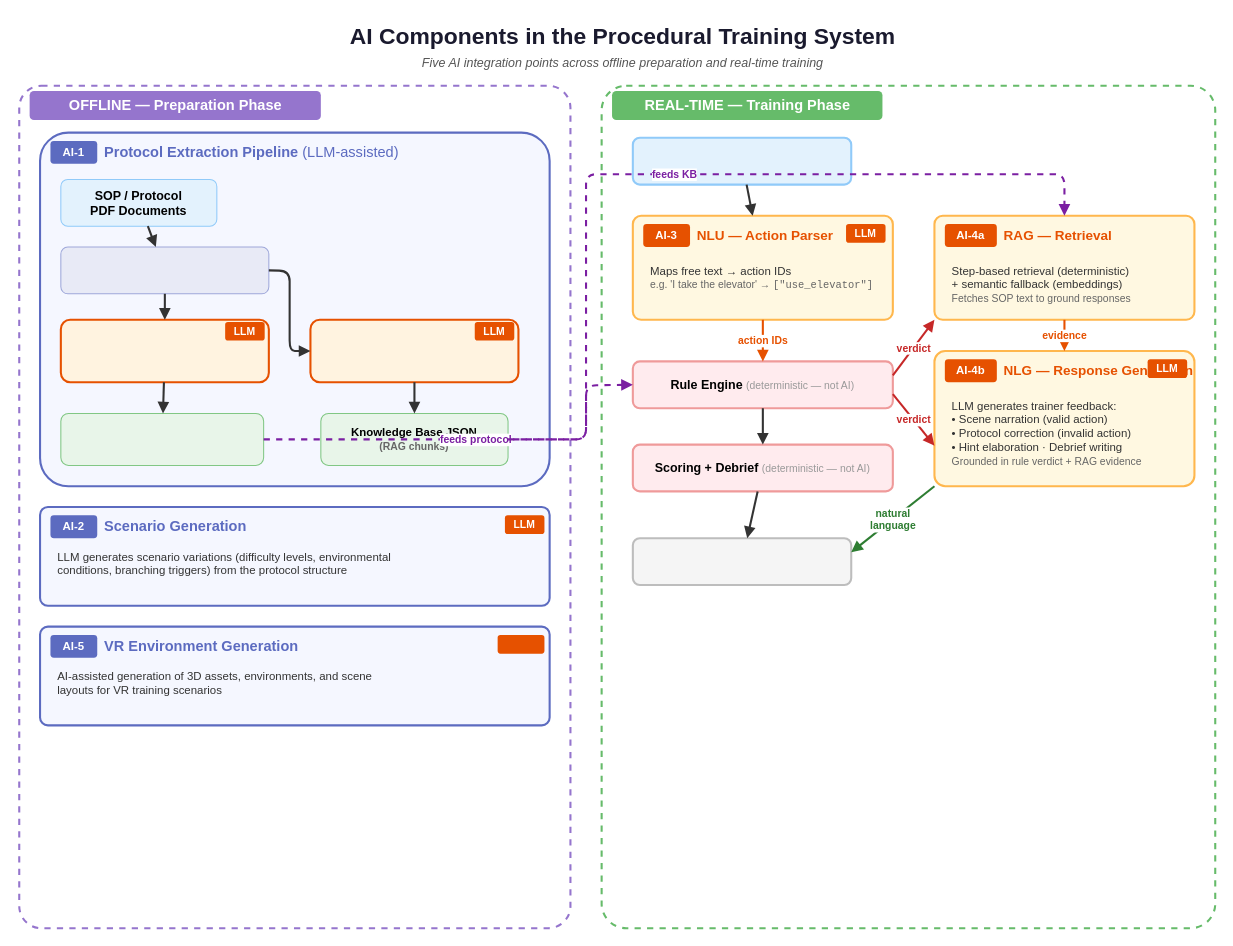
Some shapes in this 1233 by 946 pixel diagram are drawn without their labels. The shapes that lost their labels are listed below. From the top down, each one's box as (x1, y1, x2, y2) in pixels, then its label:
(631, 136, 852, 185): Trainee (natural language)
(60, 246, 269, 294): Text Extraction (heading detection, table parsing)
(59, 318, 269, 383): LLM Structuring Prose → protocol graph (steps, branches, constraints)
(309, 318, 519, 383): KB Generation LLM extracts RAG chunks from source paragraphs
(60, 412, 264, 465): Protocol JSON (decision tree + knowledge graph)
(631, 537, 852, 586): Trainer Response (to trainee)
(497, 634, 544, 653): GenAI
